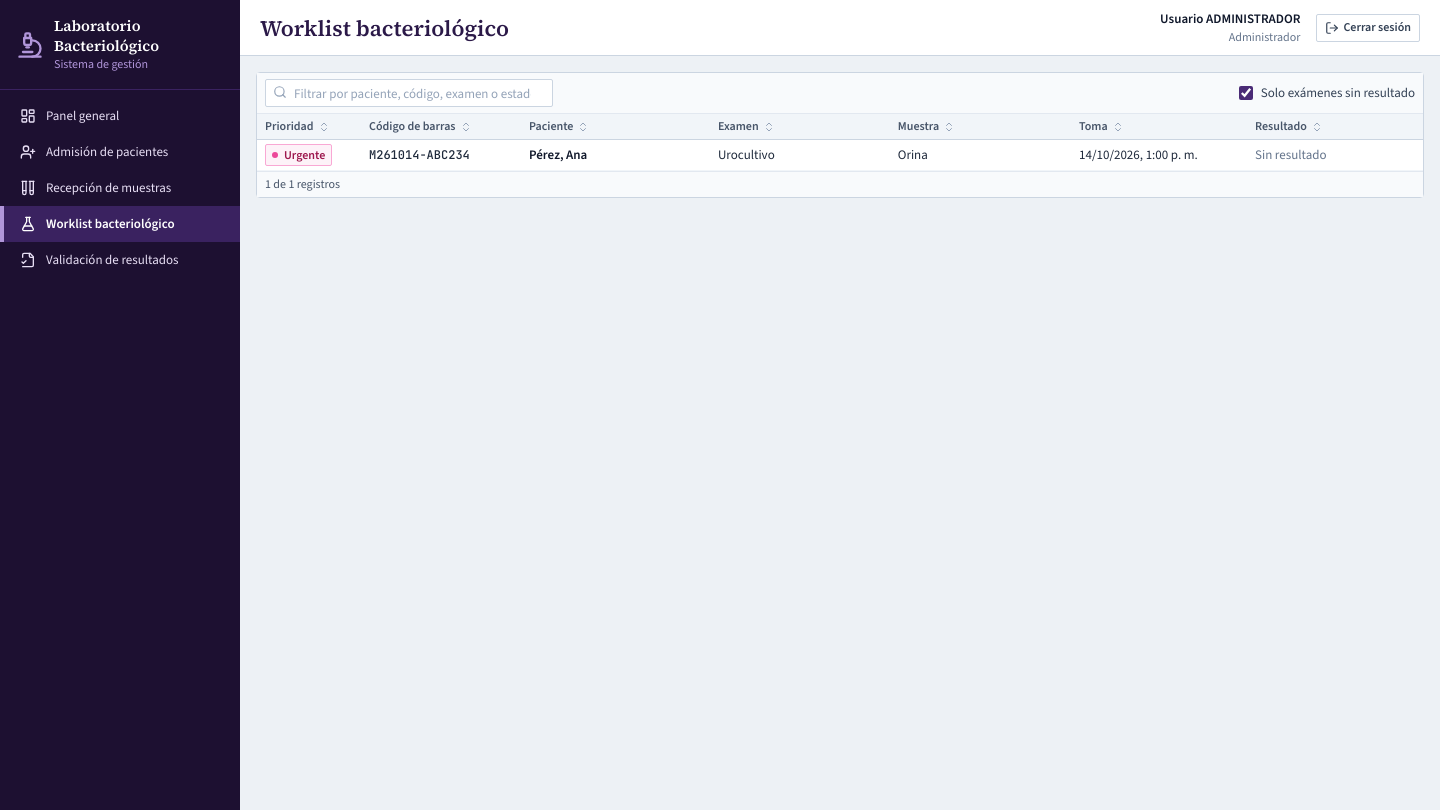
Test case: Worklist: carga de resultado con antibiograma › el administrador ve el resultado pero no el formulario de carga
Step 1. Click the text "Pérez, Ana" → (558, 154), box [529,146,587,163]
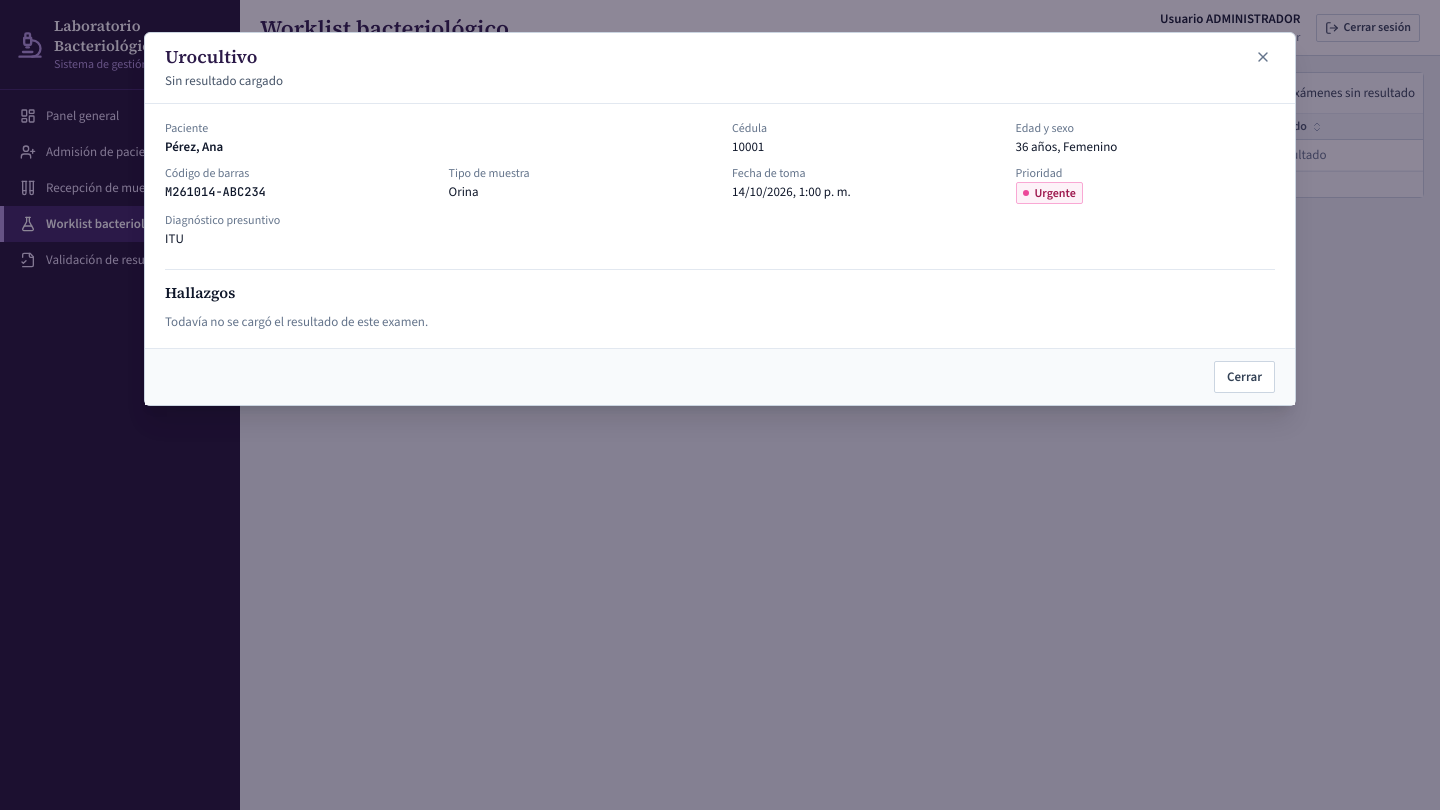
Check: the text "Todavía no se cargó el resultado de este examen." is shown, box [165,313,428,330]
